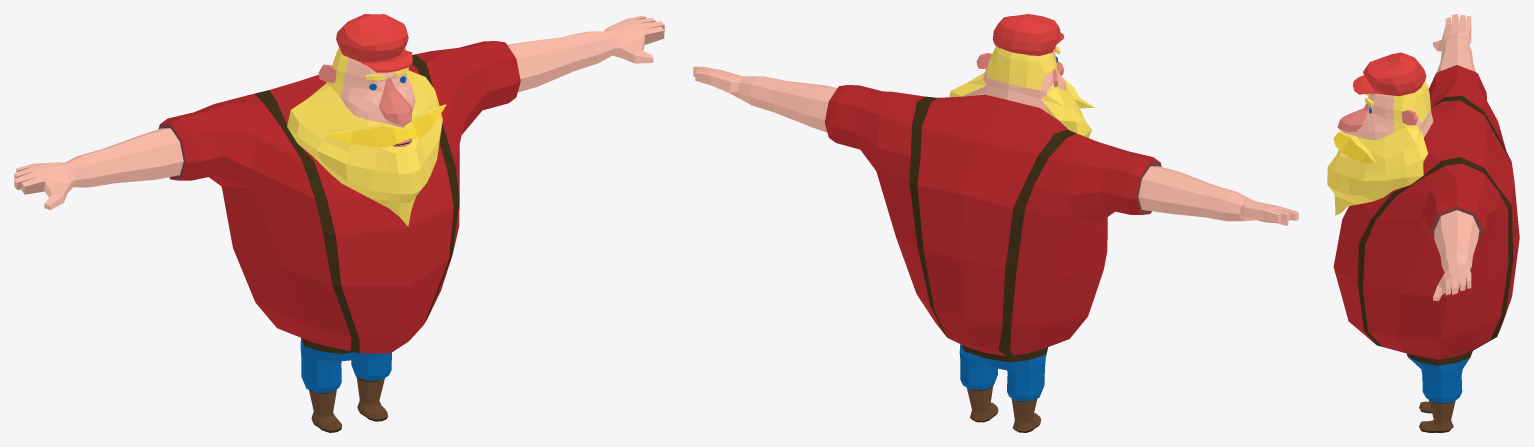
The model's file is lumberjack.glb.
3 views of the same model, side by side, from view 1: azimuth 30°, elevation 25°; view 2: azimuth 150°, elevation 25°; view 3: azimuth 270°, elevation 25° (orthographic). The views are drawn at different scales.
Parts seen in each view (by area): view 1: Object_2; view 2: Object_2; view 3: Object_2.
Part boxes in pixels (x1=…): Object_2: x1=14, y1=14, x2=664, y2=432; Object_2: x1=693, y1=14, x2=1298, y2=432; Object_2: x1=1327, y1=14, x2=1519, y2=432.
Bounding box in the file's own units: 2.54 × 1.57 × 0.7548.
Materials: 1 (1 with a texture image).
